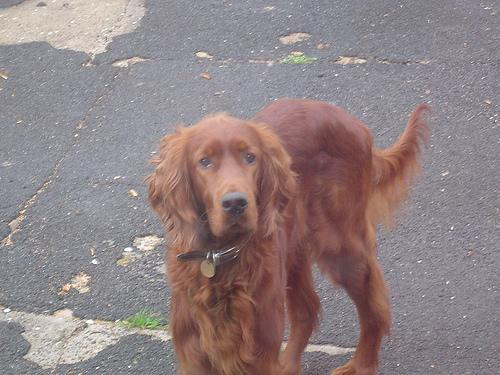Irish_setter: (144, 98, 432, 374)
